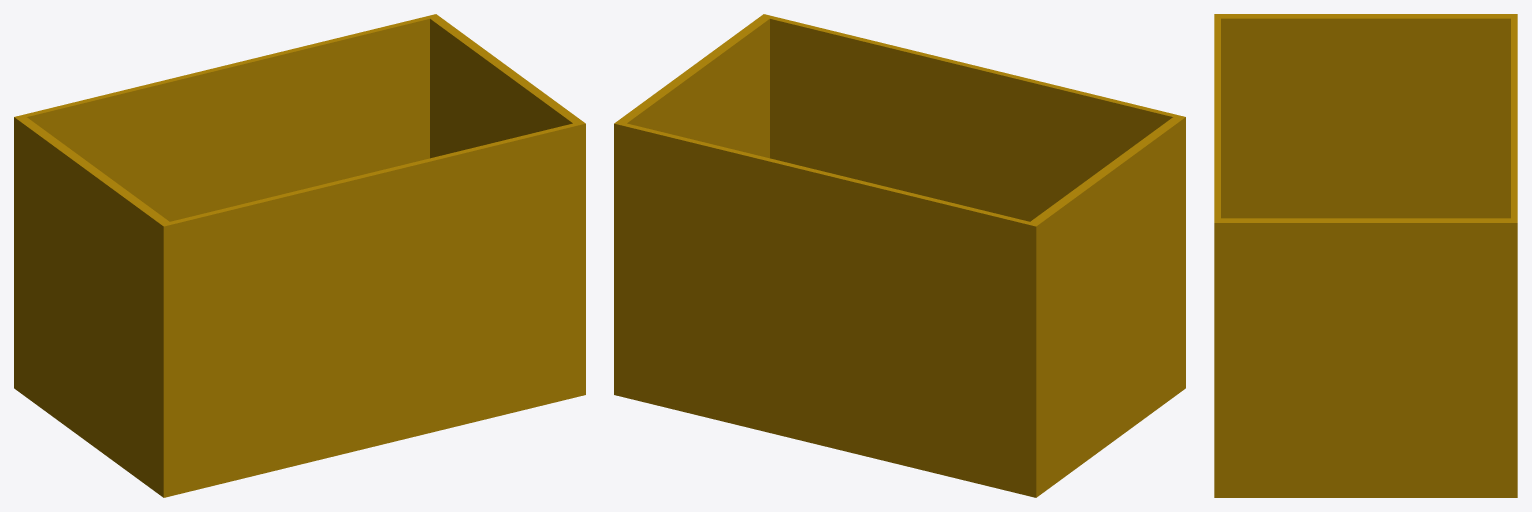
The model's file is boat.fbx.
The picture shows the model from 3 angles, left to right: view 1: azimuth 30°, elevation 25°; view 2: azimuth 150°, elevation 25°; view 3: azimuth 270°, elevation 25°; orthographic projection.
Parts seen in each view (by area): view 1: Boat; view 2: Boat; view 3: Boat.
Part boxes in pixels (x1,y1,x2,y2): Boat: (14, 14, 585, 497); Boat: (614, 14, 1185, 497); Boat: (1214, 14, 1517, 497).
Size of the model in its own units: 326 by 200 by 200.
